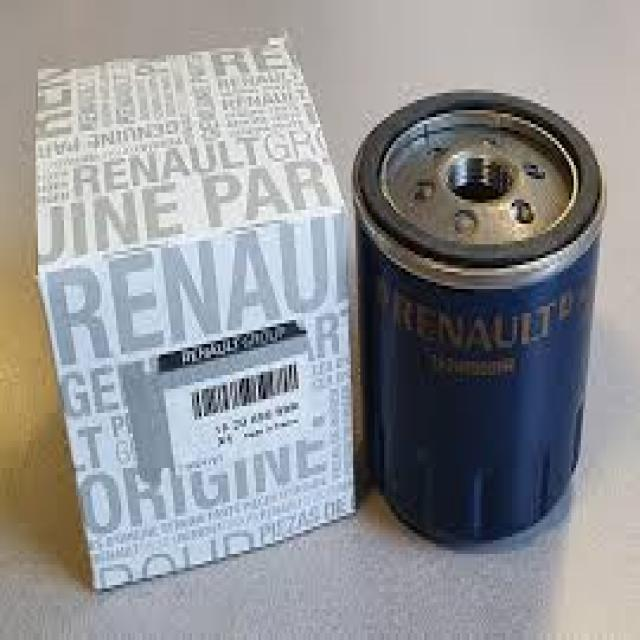oil_filter: (352, 81, 608, 544)
